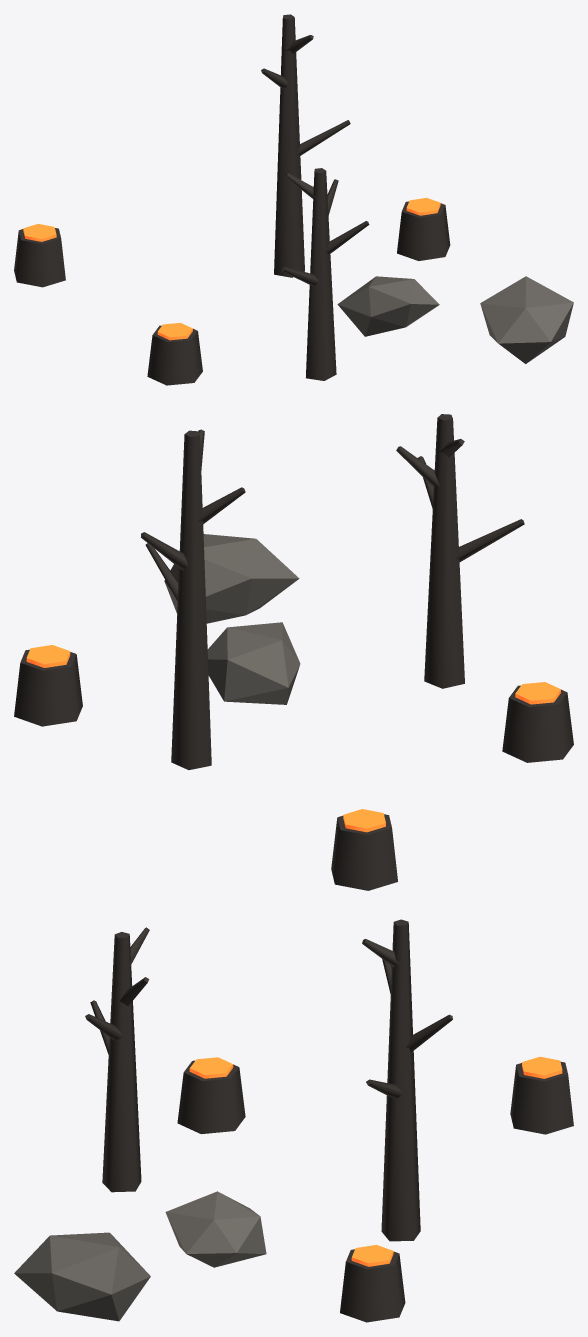
Rendered from sawyer_dead_snags_a.glb.
3 views of the same model, one above another, from view 1: azimuth 30°, elevation 25°; view 2: azimuth 150°, elevation 25°; view 3: azimuth 270°, elevation 25° (orthographic). The views are drawn at different scales.
Visible parts, largest first — view 1: dead_1_trunk, rock_6_rock, dead_0_trunk, rock_5_rock, stump_3_stump, stump_4_stump, stump_2_stump, stump_4_ember, stump_3_ember, stump_2_ember, dead_1_branch0; view 2: dead_1_trunk, dead_0_trunk, rock_5_rock, rock_6_rock, stump_3_stump, stump_4_stump, stump_2_stump, stump_3_ember, stump_4_ember, dead_0_branch0, stump_2_ember, dead_1_branch1; view 3: dead_1_trunk, rock_6_rock, dead_0_trunk, rock_5_rock, stump_3_stump, stump_4_stump, stump_2_stump, stump_3_ember, stump_4_ember, stump_2_ember, dead_1_branch1.
Boxes of the visible parts, x1=… form: dead_1_trunk: x1=274, y1=14, x2=304, y2=277; rock_6_rock: x1=480, y1=276, x2=573, y2=363; dead_0_trunk: x1=306, y1=168, x2=336, y2=380; rock_5_rock: x1=337, y1=276, x2=439, y2=336; stump_3_stump: x1=147, y1=325, x2=202, y2=385; stump_4_stump: x1=397, y1=201, x2=450, y2=260; stump_2_stump: x1=14, y1=228, x2=65, y2=287; stump_4_ember: x1=406, y1=197, x2=440, y2=215; stump_3_ember: x1=157, y1=322, x2=192, y2=340; stump_2_ember: x1=23, y1=224, x2=56, y2=241; dead_1_branch0: x1=296, y1=120, x2=350, y2=155; dead_1_trunk: x1=171, y1=430, x2=211, y2=769; dead_0_trunk: x1=424, y1=414, x2=464, y2=688; rock_5_rock: x1=207, y1=622, x2=300, y2=704; rock_6_rock: x1=164, y1=534, x2=299, y2=623; stump_3_stump: x1=502, y1=685, x2=573, y2=762; stump_4_stump: x1=14, y1=649, x2=82, y2=726; stump_2_stump: x1=331, y1=814, x2=397, y2=890; stump_3_ember: x1=515, y1=682, x2=560, y2=704; stump_4_ember: x1=26, y1=645, x2=70, y2=667; dead_0_branch0: x1=455, y1=519, x2=524, y2=561; stump_2_ember: x1=343, y1=809, x2=385, y2=832; dead_1_branch1: x1=141, y1=532, x2=188, y2=570; dead_1_trunk: x1=381, y1=919, x2=420, y2=1241; rock_6_rock: x1=14, y1=1232, x2=150, y2=1321; dead_0_trunk: x1=102, y1=932, x2=141, y2=1192; rock_5_rock: x1=165, y1=1191, x2=266, y2=1267; stump_3_stump: x1=177, y1=1060, x2=245, y2=1134; stump_4_stump: x1=340, y1=1249, x2=405, y2=1322; stump_2_stump: x1=510, y1=1061, x2=573, y2=1134; stump_3_ember: x1=189, y1=1057, x2=233, y2=1078; stump_4_ember: x1=351, y1=1245, x2=393, y2=1266; stump_2_ember: x1=522, y1=1056, x2=562, y2=1078; dead_1_branch1: x1=406, y1=1014, x2=452, y2=1052.
Bounding box in the file's own units: 3.24 × 2.26 × 3.53.
